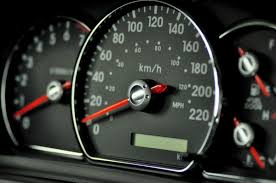Digital_Meter: (124, 129, 197, 160)
